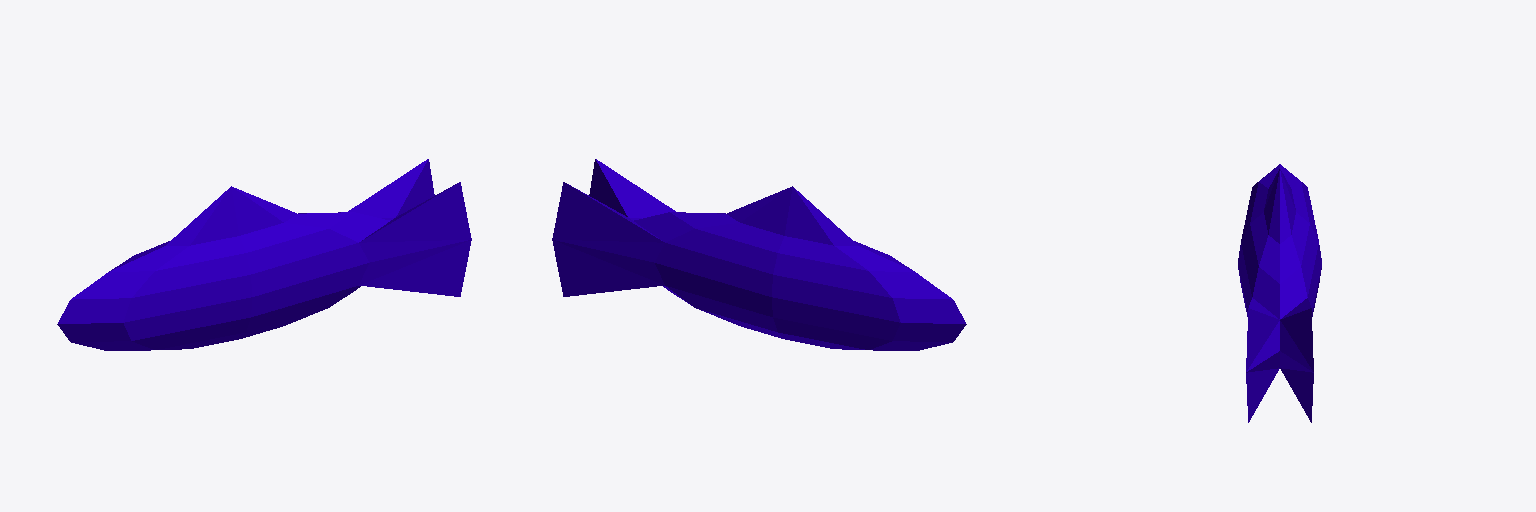
File: Fish.obj
The picture shows the model from 3 angles: view 1: azimuth 30°, elevation 25°; view 2: azimuth 150°, elevation 25°; view 3: azimuth 270°, elevation 25°; orthographic projection.
Parts seen in each view (by area): view 1: Sphere.012; view 2: Sphere.012; view 3: Sphere.012.
Boxes of the visible parts, x1=… form: Sphere.012: x1=57, y1=159, x2=471, y2=350; Sphere.012: x1=552, y1=159, x2=966, y2=350; Sphere.012: x1=1238, y1=164, x2=1321, y2=422.
Bounding box in the file's own units: 7.42 × 2.71 × 1.37.